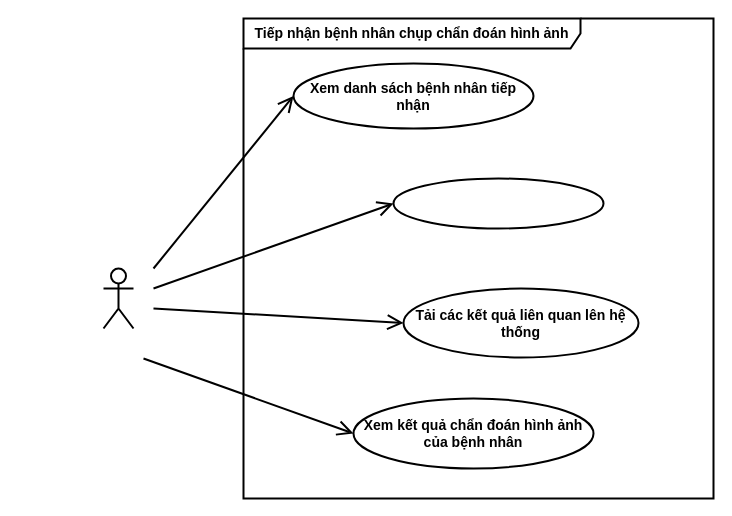
The diagram is 732 pixels wide and 516 high, and some of its shapes have lost their labels. The centre of each missing label's shape, as x and y in pixels:
"Chụp chẩn đoán hình ảnh" goes at pixel 498 203.
"Nhân viên chẩn đoán hình ảnh" goes at pixel 118 298.
